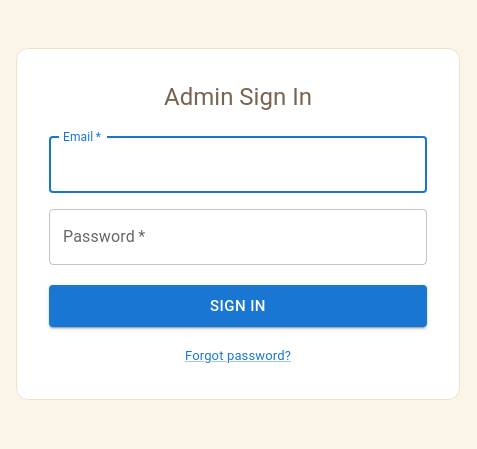
Test: AdminLoginPage › shows an error and does not navigate on invalid credentials
Type "organiser@example.com" into the field labelled "Email *".
click(238, 165); type("organiser@example.com")  # box [49,137,427,193]
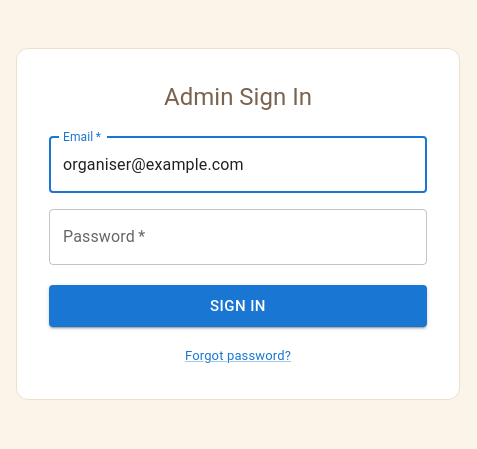
Type "wrong" into the password field labelled "Password *".
click(238, 237); type("wrong")  # box [49,209,427,265]
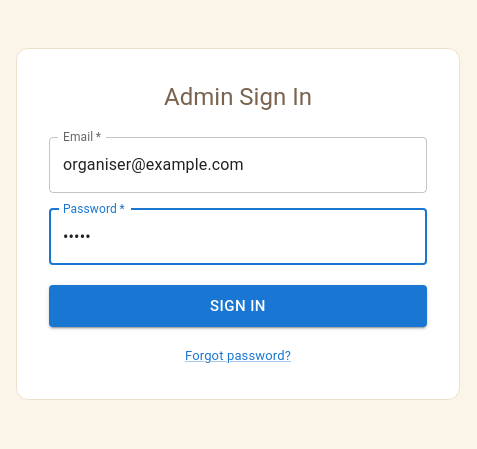
Click the button "Sign In".
click(238, 306)  # box [49,285,427,327]
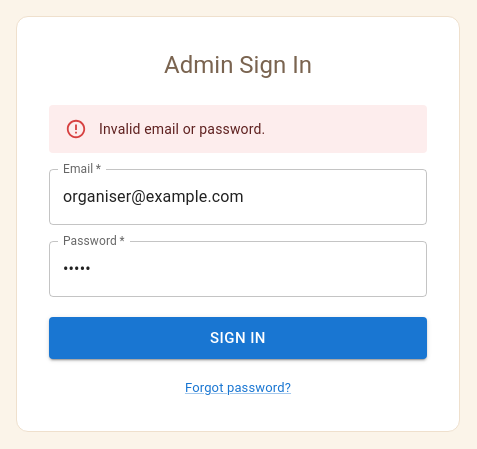
Result: the text "Invalid email or password." is shown at [99,121,265,137]
